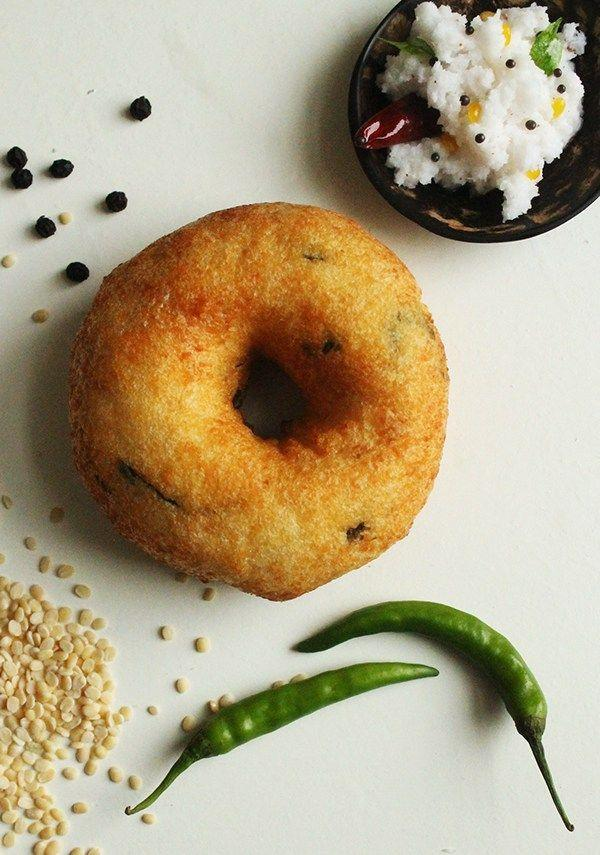medu vada: (70, 216, 493, 622)
